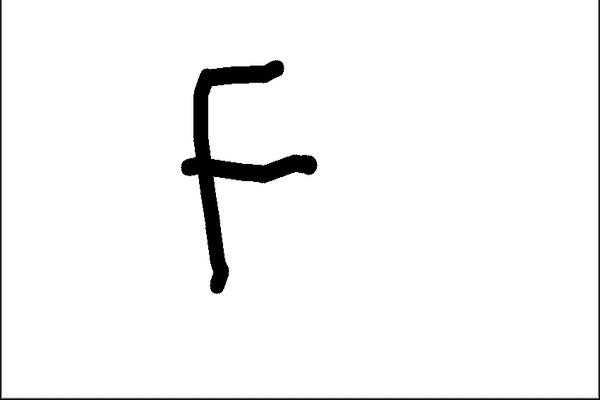F: (175, 56, 320, 300)
